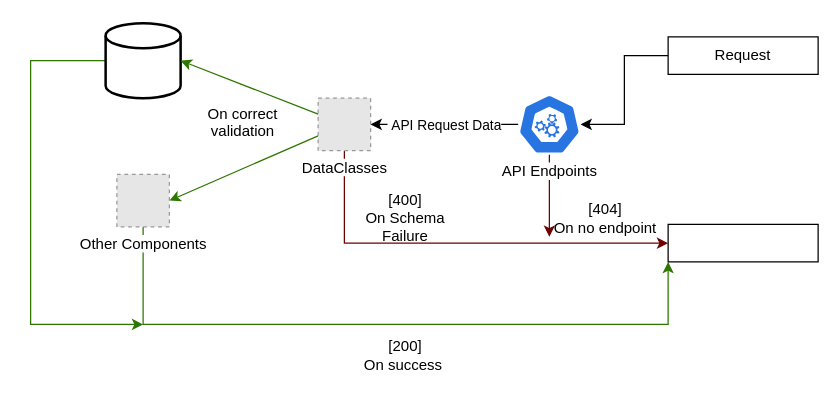
Some shapes in this 840 by 395 pixel diagram are drawn without their labels. Grey dashed boxes stand in for pictures. Here are the shapes that lost their labels. From the top down, the centre of each, then its label:
At (142,60): "DB".
At (742,242): "Response".
